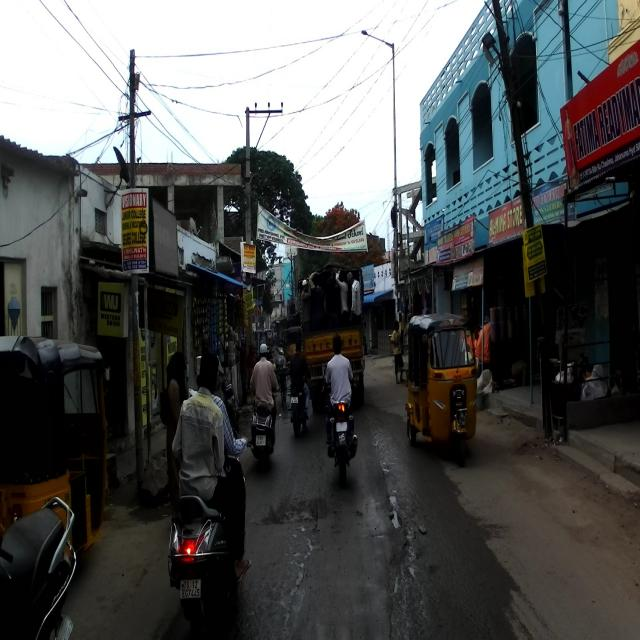autorickshaw: (0, 333, 111, 566), (404, 309, 479, 466)
motorcycle: (322, 375, 357, 490)
scooter: (167, 426, 253, 638), (1, 496, 78, 638), (246, 384, 280, 474)
truck: (298, 262, 366, 413)
